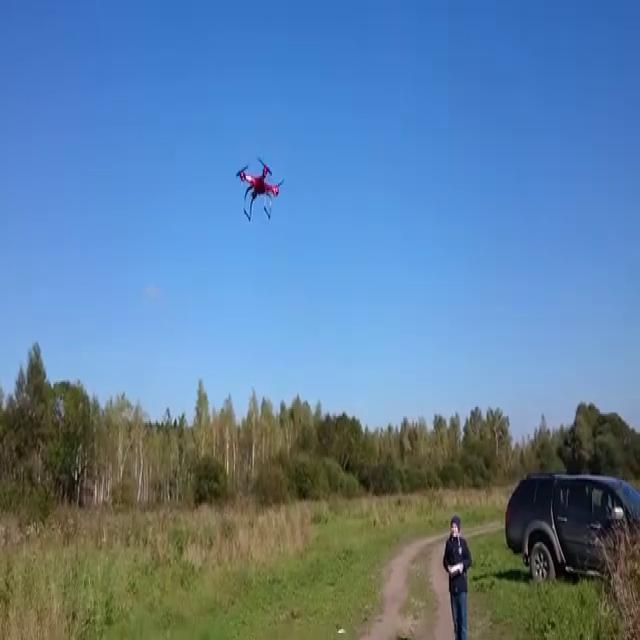Drons: (232, 156, 290, 223)
